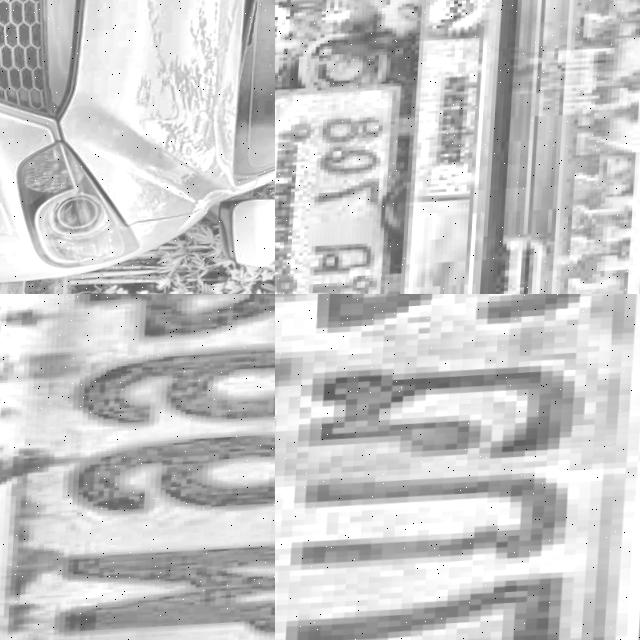license-plate: (275, 294, 640, 640), (0, 294, 275, 640), (275, 69, 414, 294)
